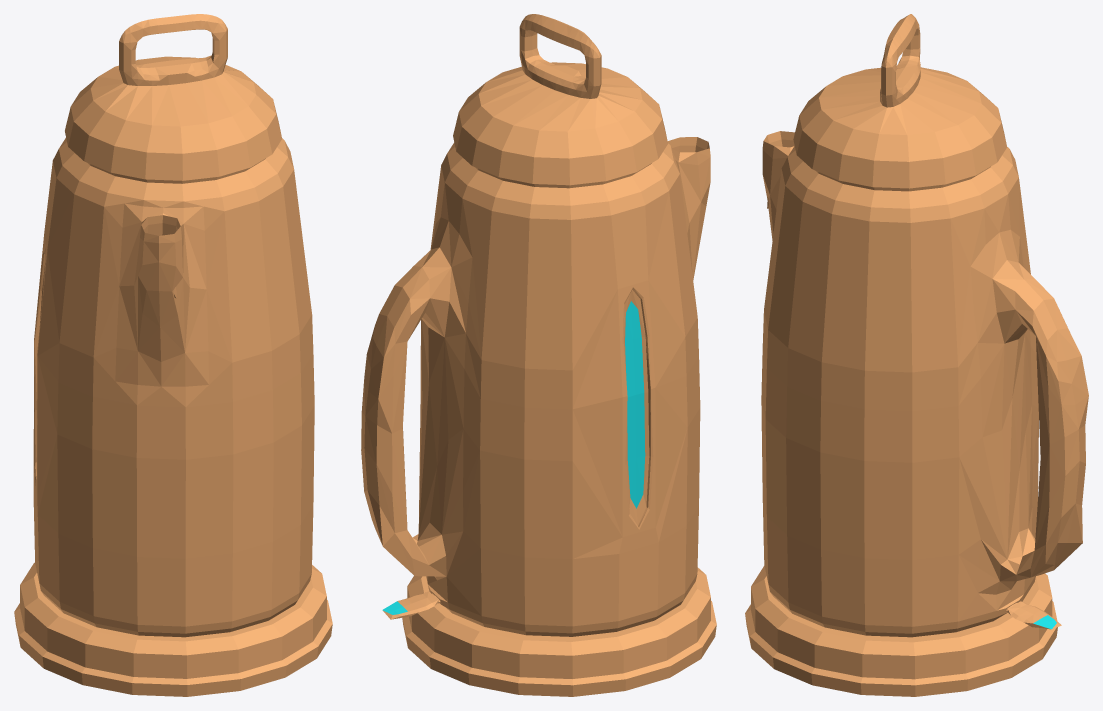
File: Tea Pot.FBX
3 renders of one model, left to right at view 1: azimuth 30°, elevation 25°; view 2: azimuth 150°, elevation 25°; view 3: azimuth 270°, elevation 25°, orthographic.
Parts seen in each view (by area): view 1: Cylinder002; view 2: Cylinder002; view 3: Cylinder002.
Boxes of the visible parts, bbox=[...] form: Cylinder002: bbox=[14, 14, 332, 696]; Cylinder002: bbox=[361, 14, 716, 696]; Cylinder002: bbox=[745, 14, 1088, 696].
Size of the model in its own units: 9.33 by 19.85 by 10.24.
